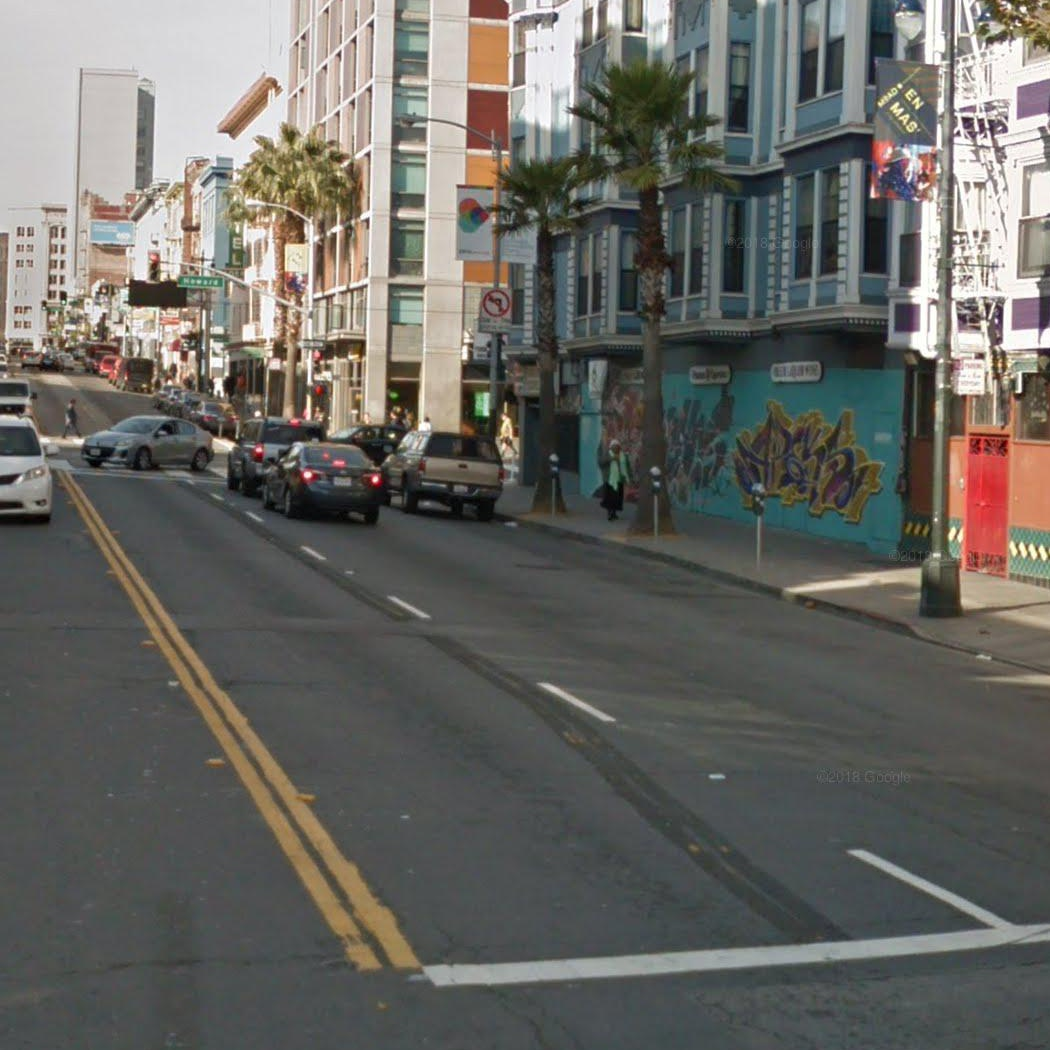No Parking: (951, 358, 987, 396)
